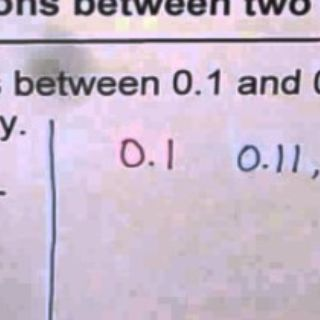.: (261, 161, 270, 172), (148, 159, 156, 169)
0: (116, 135, 146, 168), (235, 143, 261, 173)
1: (165, 137, 176, 171), (275, 142, 285, 174), (291, 141, 301, 173)
